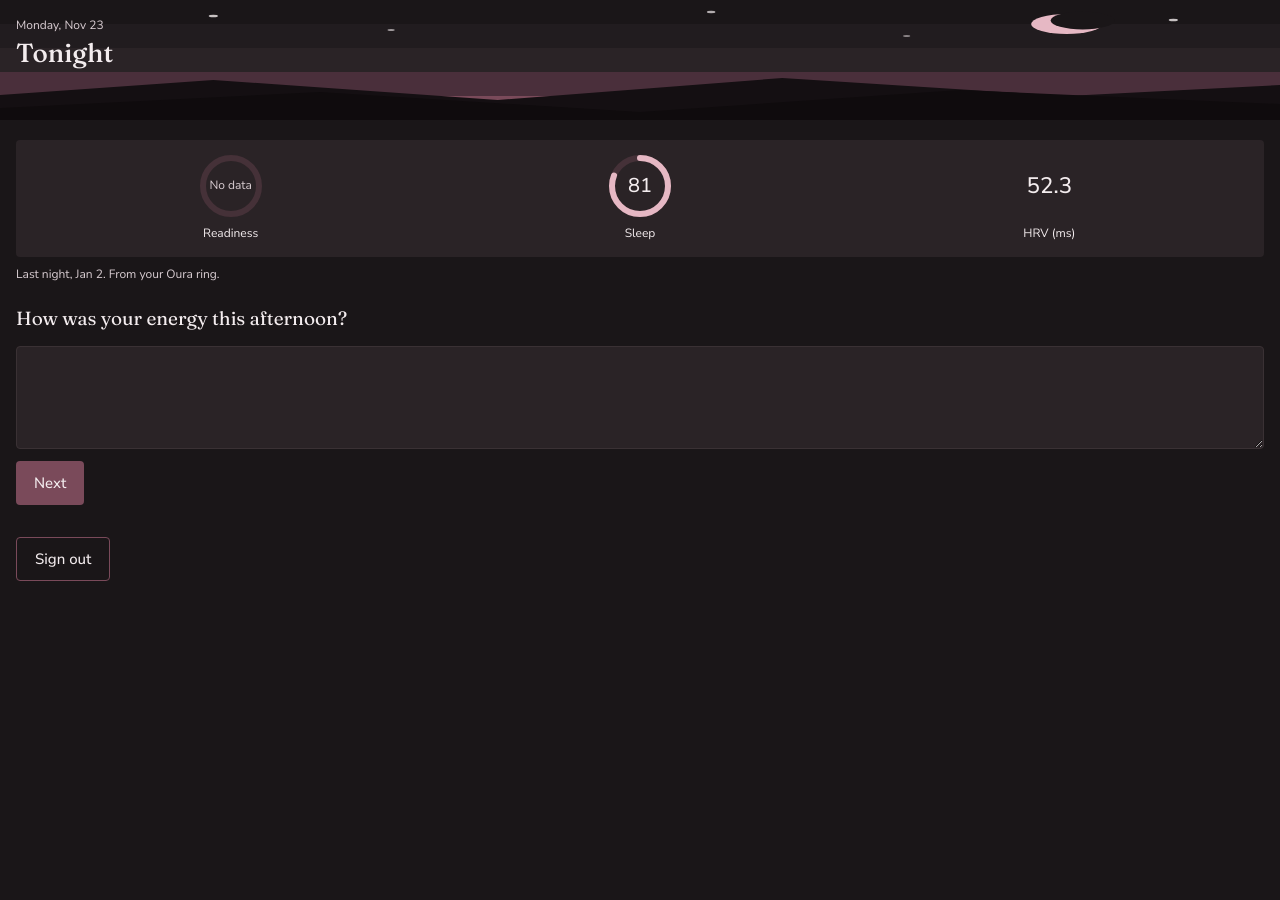
Scenario: Tonight › questions › a blank Next skips the question
The width and height of the screenshot is (1280, 900).
Click the button "Next".
click(50, 483)  # box 16,461 -> 84,505
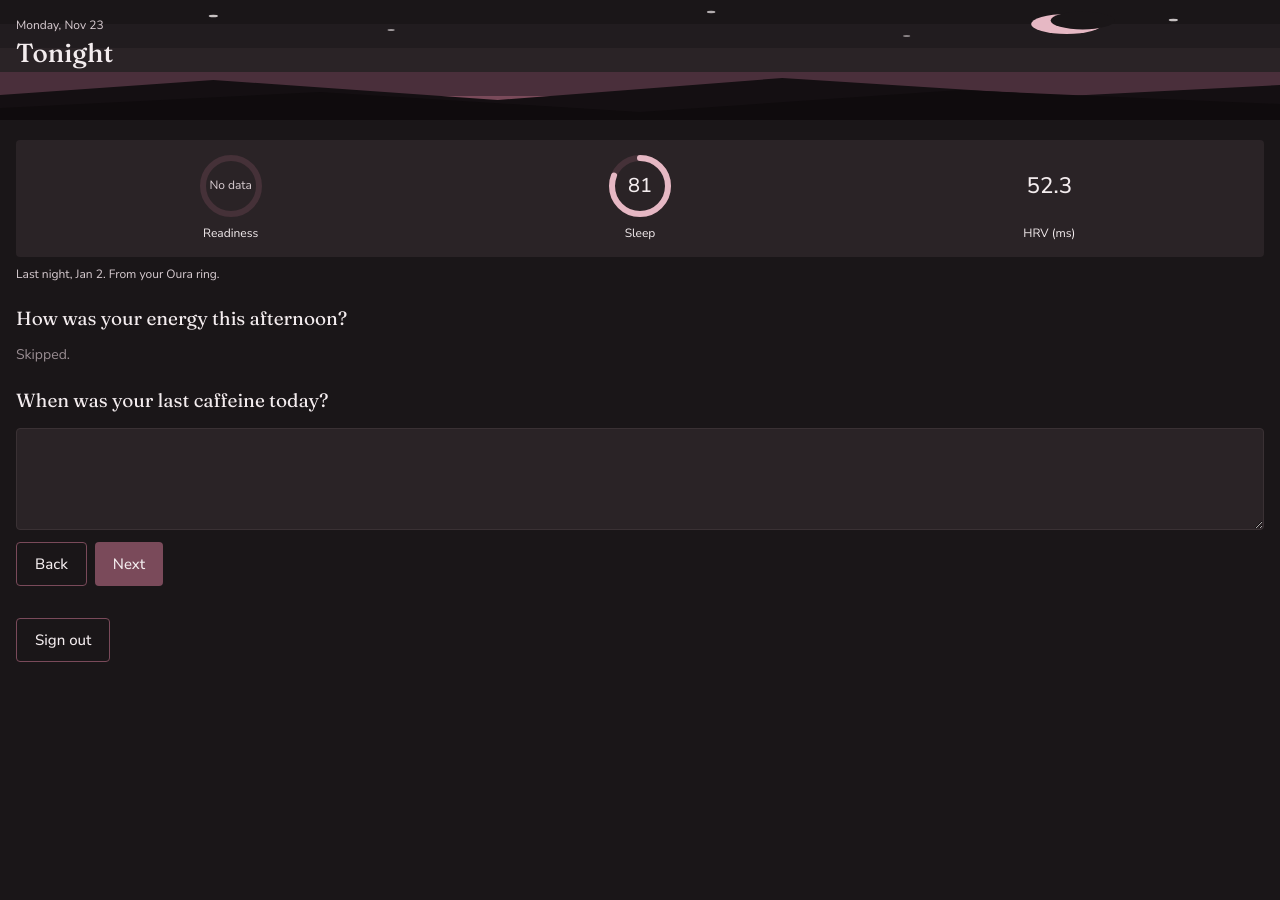
Expected: the text box labelled "When was your last caffeine today?" is shown, 16,428 -> 1264,530
Now the text "Skipped." is shown, box 16,345 -> 70,364
